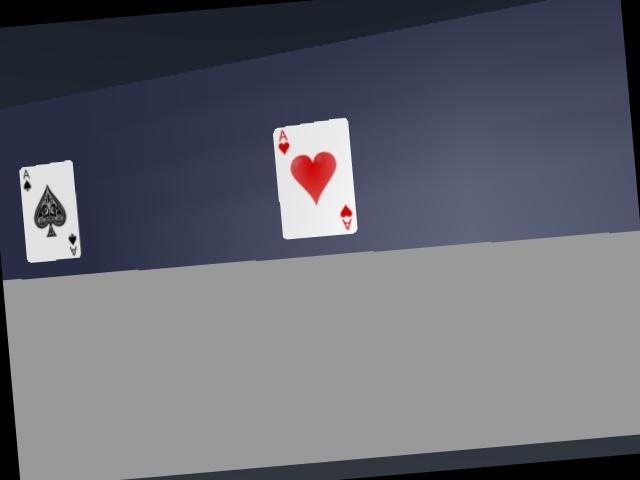club: (19, 161, 81, 262)
heart: (273, 118, 357, 239)
